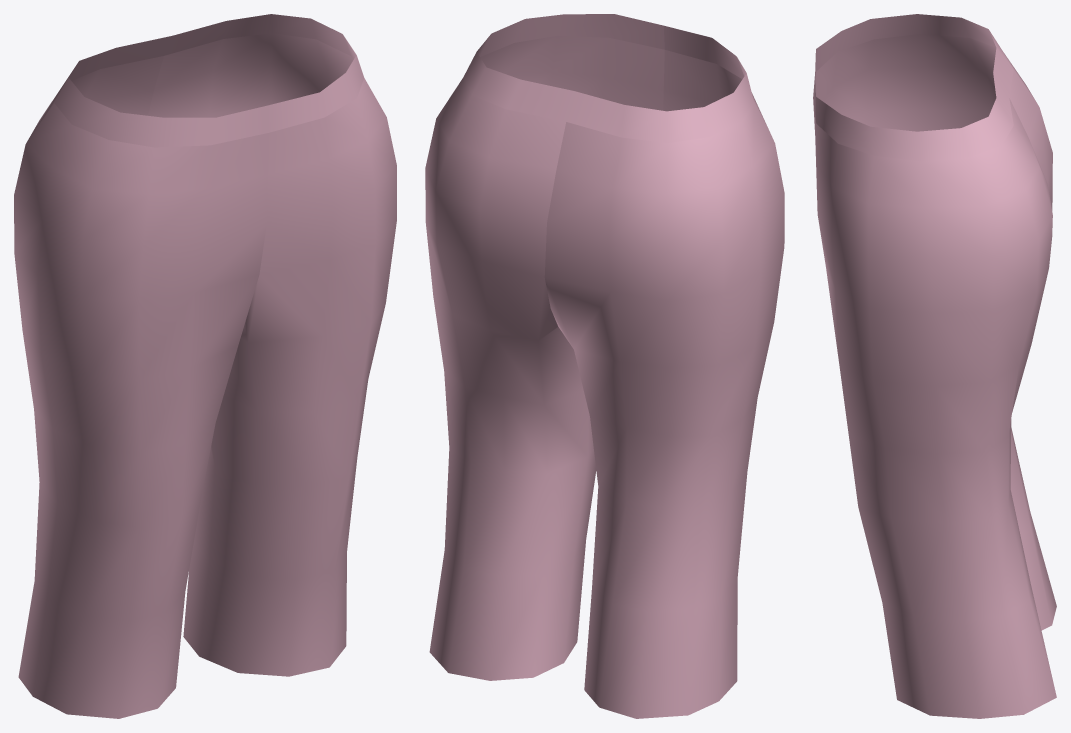
The model's file is capri_pant.glb.
3 views of the same model, side by side, from view 1: azimuth 30°, elevation 25°; view 2: azimuth 150°, elevation 25°; view 3: azimuth 270°, elevation 25° (orthographic). The views are drawn at different scales.
Parts seen in each view (by area): view 1: capri_pant; view 2: capri_pant; view 3: capri_pant.
Part boxes in pixels (bbox=[...]): capri_pant: bbox=[14, 14, 396, 718]; capri_pant: bbox=[425, 14, 784, 718]; capri_pant: bbox=[813, 14, 1056, 718].
Size of the model in its own units: 0.3244 by 0.5758 by 0.2197.
